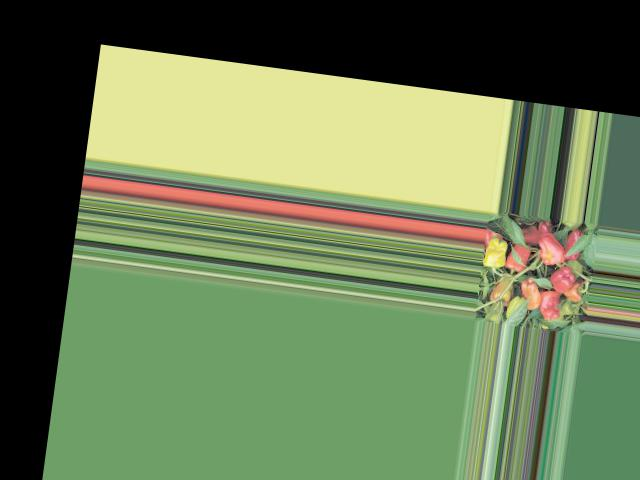bell_pepper: (564, 286, 585, 302)
